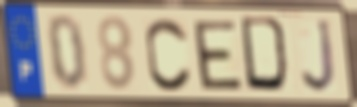0: (46, 13, 88, 93)
8: (96, 13, 138, 95)
C: (143, 14, 194, 94)
D: (238, 14, 295, 97)
E: (190, 18, 245, 93)
J: (300, 17, 339, 97)
